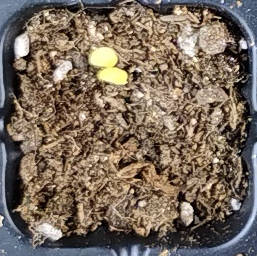pepper seed: (32, 24, 161, 110), (29, 12, 148, 80)
